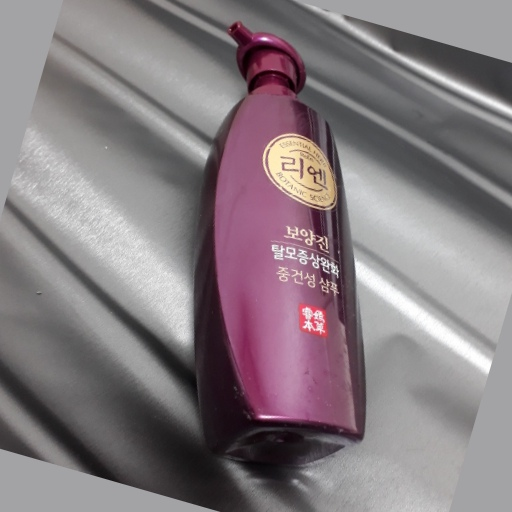Plastic_3: (195, 21, 368, 474)
